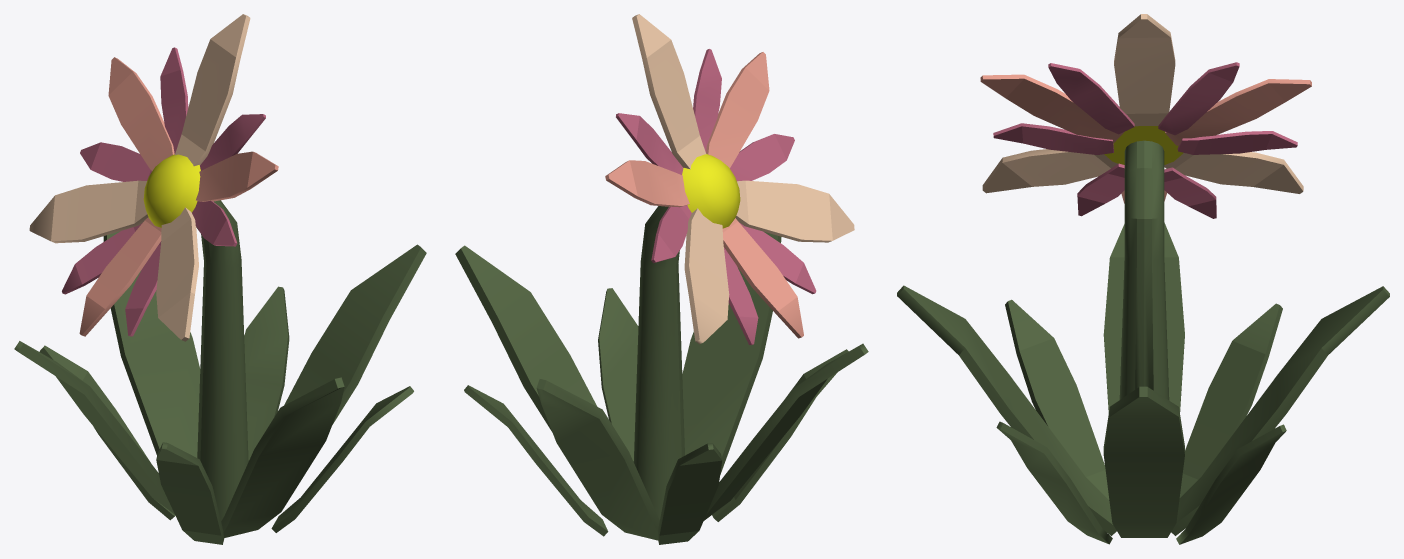
File: Kwiatka.fbx
3 views of the same model, side by side, from view 1: azimuth 30°, elevation 25°; view 2: azimuth 150°, elevation 25°; view 3: azimuth 270°, elevation 25° (orthographic). The views are drawn at different scales.
Parts seen in each view (by area): view 1: Cube.002, Cube.009, Cube.019, Cube.011, Cube.007, Cylinder.002, Cube.005; view 2: Cube.002, Cube.009, Cube.019, Cube.011, Cube.005, Cylinder.002, Cube.007; view 3: Cube.002, Cube.009, Cube.019, Cube.007, Cube.011, Cube.005, Cylinder.002.
Boxes of the visible parts, box(x1,y1,x2,y2) form: Cube.002: box(14, 200, 426, 537); Cube.009: box(29, 14, 250, 341); Cube.019: box(62, 47, 265, 336); Cube.011: box(79, 57, 278, 336); Cube.007: box(156, 442, 224, 544); Cylinder.002: box(143, 154, 200, 227); Cube.005: box(39, 345, 175, 520); Cube.002: box(455, 206, 868, 540); Cube.009: box(632, 14, 854, 344); Cube.019: box(616, 49, 816, 344); Cube.011: box(605, 52, 803, 338); Cube.005: box(658, 443, 722, 544); Cylinder.002: box(682, 154, 740, 228); Cube.007: box(712, 349, 848, 521); Cube.002: box(897, 140, 1389, 544); Cube.009: box(982, 14, 1303, 193); Cube.019: box(993, 62, 1297, 218); Cube.007: box(1005, 299, 1109, 499); Cube.011: box(980, 74, 1311, 203); Cube.005: box(1179, 303, 1282, 497); Cylinder.002: box(1104, 126, 1183, 164).
Bounding box in the file's own units: 2080 × 2450 × 2091.
